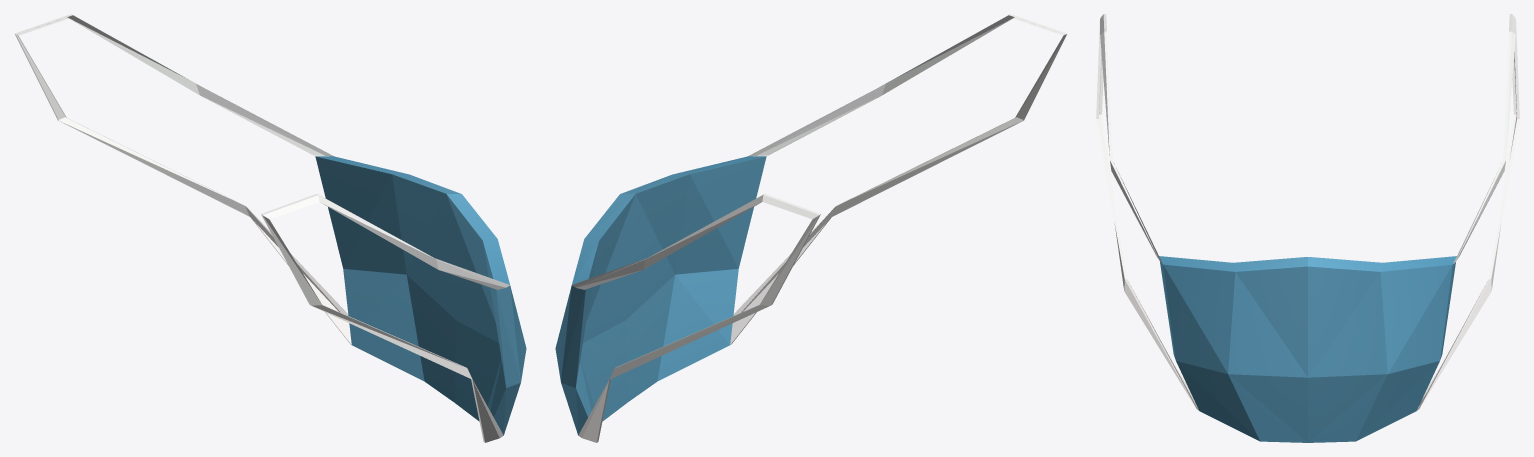
The model's file is SURGICAL MASK.fbx.
3 views of the same model, side by side, from view 1: azimuth 30°, elevation 25°; view 2: azimuth 150°, elevation 25°; view 3: azimuth 270°, elevation 25° (orthographic). The views are drawn at different scales.
Parts seen in each view (by area): view 1: SURGICAL_MASK; view 2: SURGICAL_MASK; view 3: SURGICAL_MASK.
Part boxes in pixels (bbox=[...]): SURGICAL_MASK: bbox=[14, 14, 526, 442]; SURGICAL_MASK: bbox=[555, 14, 1067, 442]; SURGICAL_MASK: bbox=[1096, 14, 1519, 442].
Bounding box in the file's own units: 19.54 × 19.86 × 25.46.
